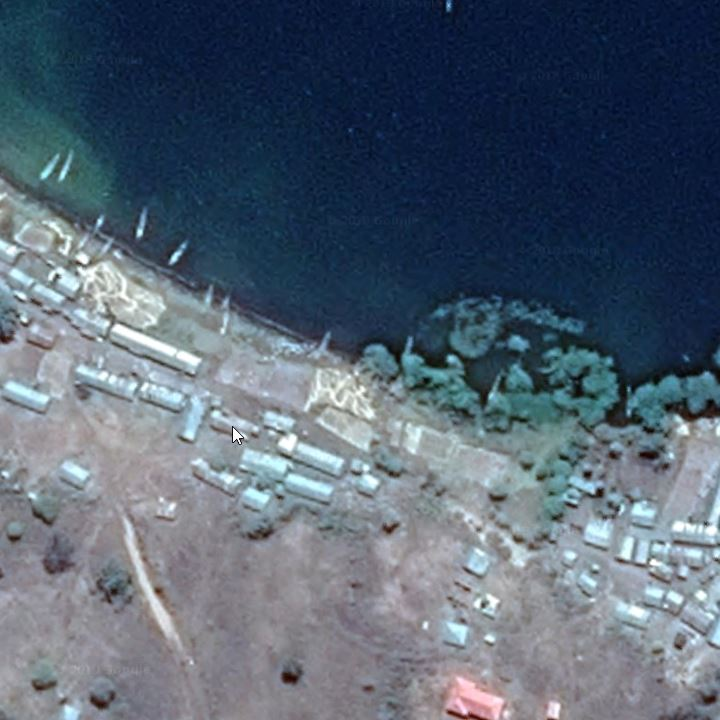boat: (34, 148, 63, 187), (92, 230, 121, 265), (57, 143, 79, 189), (131, 199, 152, 246), (311, 322, 335, 362), (218, 287, 235, 337), (486, 368, 507, 405), (197, 278, 217, 316), (169, 237, 191, 268), (89, 209, 109, 243), (70, 230, 91, 262), (624, 385, 636, 420)
